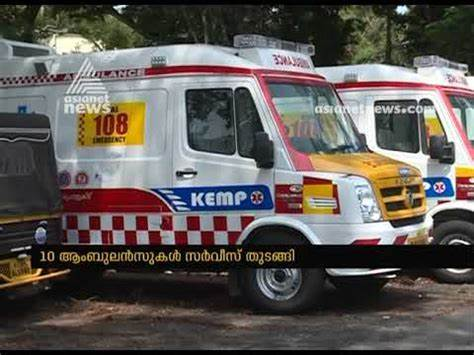ambulance: (25, 32, 437, 308), (353, 22, 474, 259)
